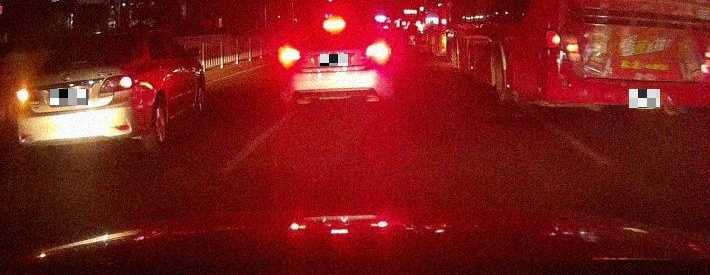L_light: (16, 88, 39, 104), (279, 49, 305, 62)
R_light: (97, 74, 140, 97), (361, 43, 390, 59)
T_light: (322, 19, 347, 32), (87, 34, 109, 39)
night-brake: (278, 16, 392, 105)
night-left: (14, 29, 153, 158)
plate_1: (50, 89, 88, 105)
plate_2: (320, 54, 348, 66)
plate_3: (629, 89, 660, 108)
